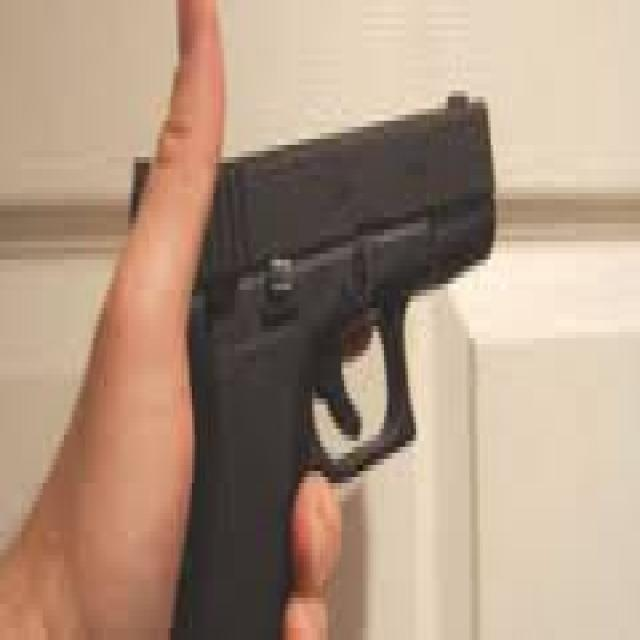pistol: (120, 66, 501, 634)
